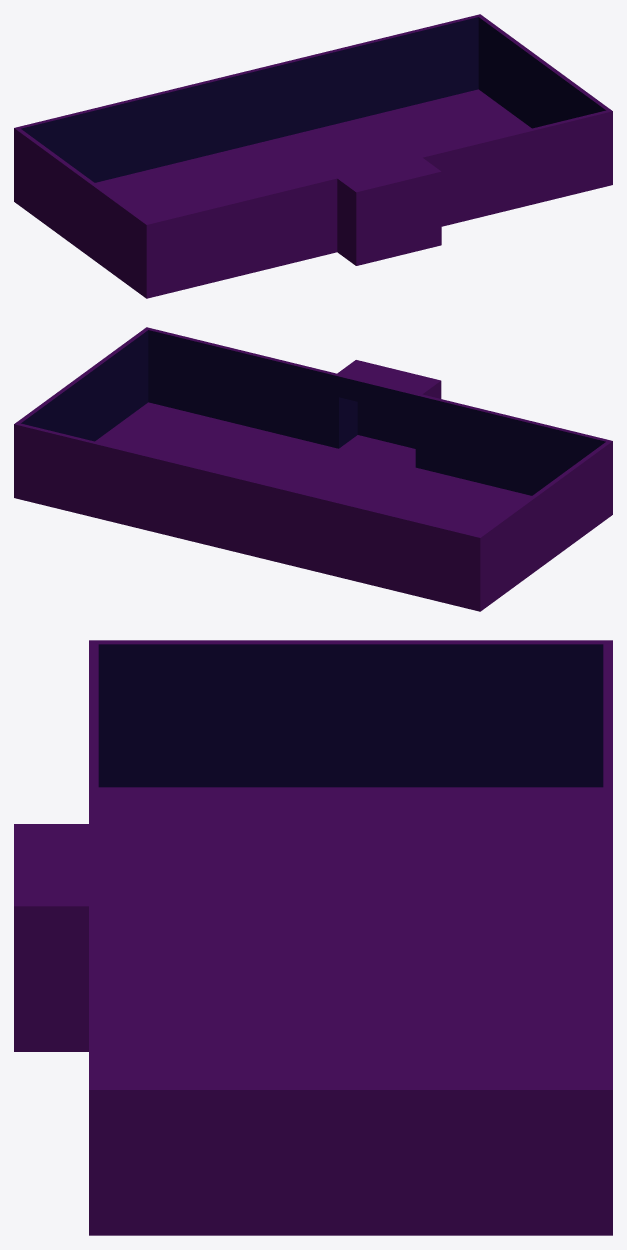
File: env_basic_2.fbx
3 renders of one model, top to bottom at view 1: azimuth 30°, elevation 25°; view 2: azimuth 150°, elevation 25°; view 3: azimuth 270°, elevation 25°, orthographic. The views are drawn at different scales.
Parts seen in each view (by area): view 1: Building; view 2: Building; view 3: Building.
Part boxes in pixels (x1,y1,x2,y2): Building: [14, 14, 612, 298]; Building: [14, 327, 612, 611]; Building: [14, 640, 612, 1235].
Size of the model in its own units: 12278 by 1856 by 6912.
